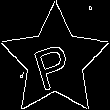P_N: (31, 31, 79, 91)
